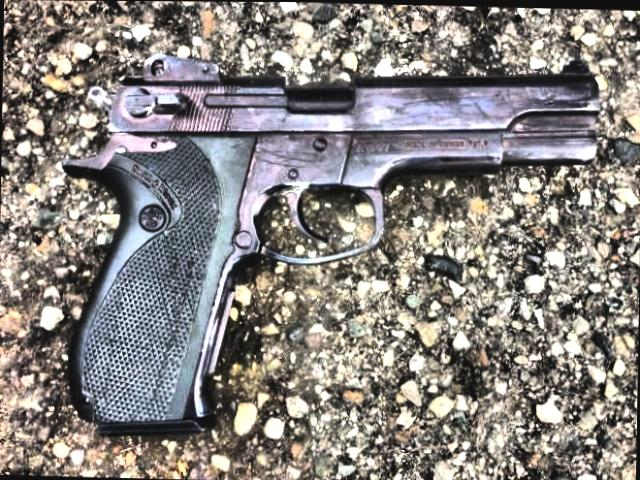pistol: (50, 36, 604, 448)
